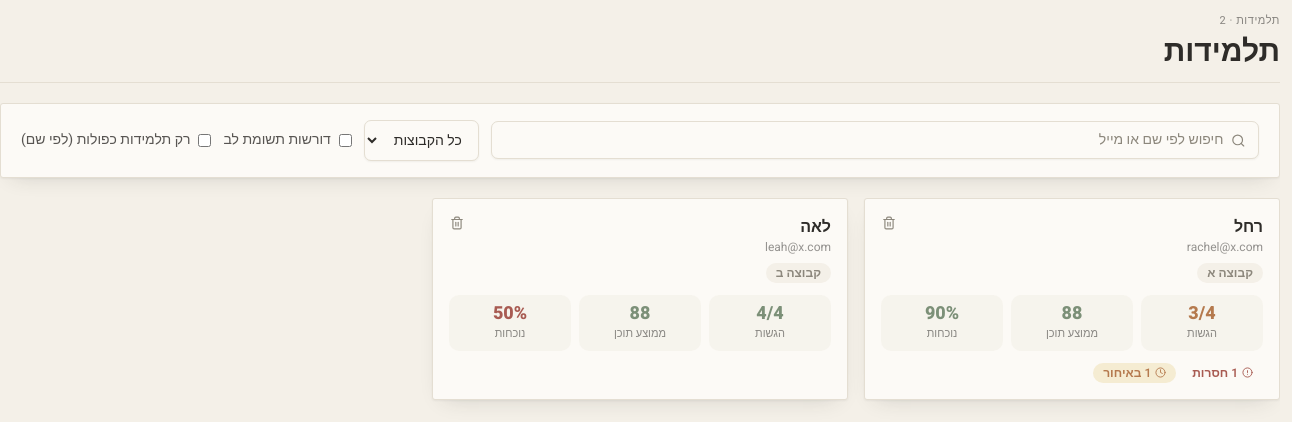
StudentsPage › says so when no two students share a name
The width and height of the screenshot is (1292, 422).
Check: the text "רחל" is shown, box x1=1234 y1=215 x2=1263 y2=239
Click the checkbox labelled "רק תלמידות כפולות (לפי שם)" at (205, 140), box x1=198 y1=134 x2=211 y2=147
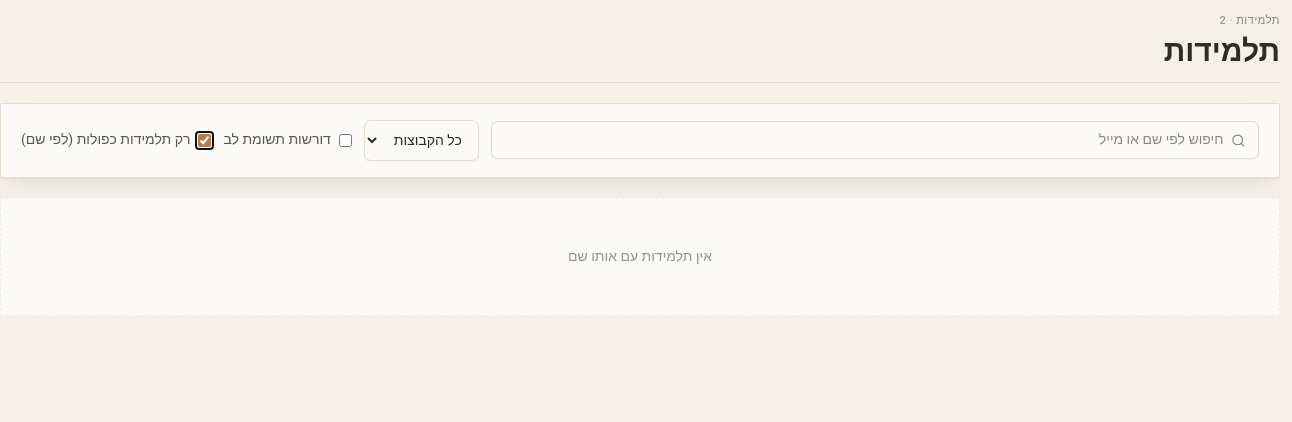
Check: the text "אין תלמידות עם אותו שם" is shown, box x1=568 y1=247 x2=712 y2=267
